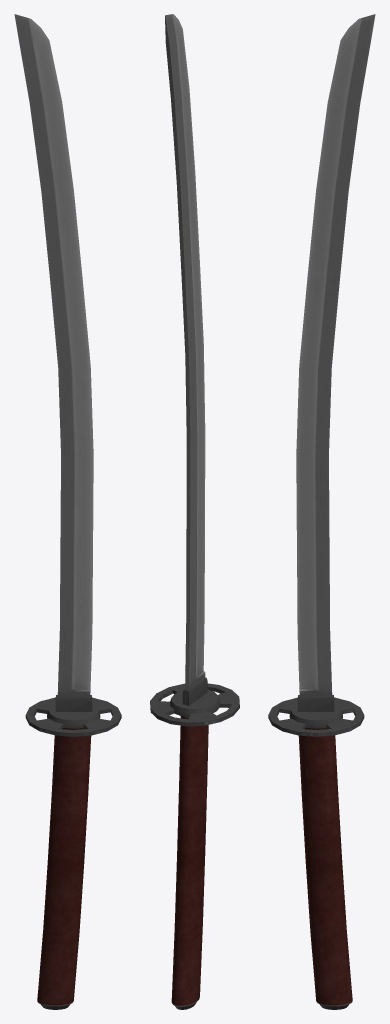
File: Katana.glb
3 renders of one model, left to right at view 1: azimuth 90°, elevation 25°; view 2: azimuth 150°, elevation 25°; view 3: azimuth 270°, elevation 25°, orthographic.
Parts seen in each view (by area): view 1: Katana; view 2: Katana; view 3: Katana.
Part boxes in pixels (left/top/right/bottom): Katana: left=14, top=14, right=121, bottom=1009; Katana: left=150, top=14, right=239, bottom=1009; Katana: left=268, top=14, right=375, bottom=1009.
Size of the model in its own units: 0.0865 by 1.08 by 0.1055.
Materials: 1 (1 with a texture image).
